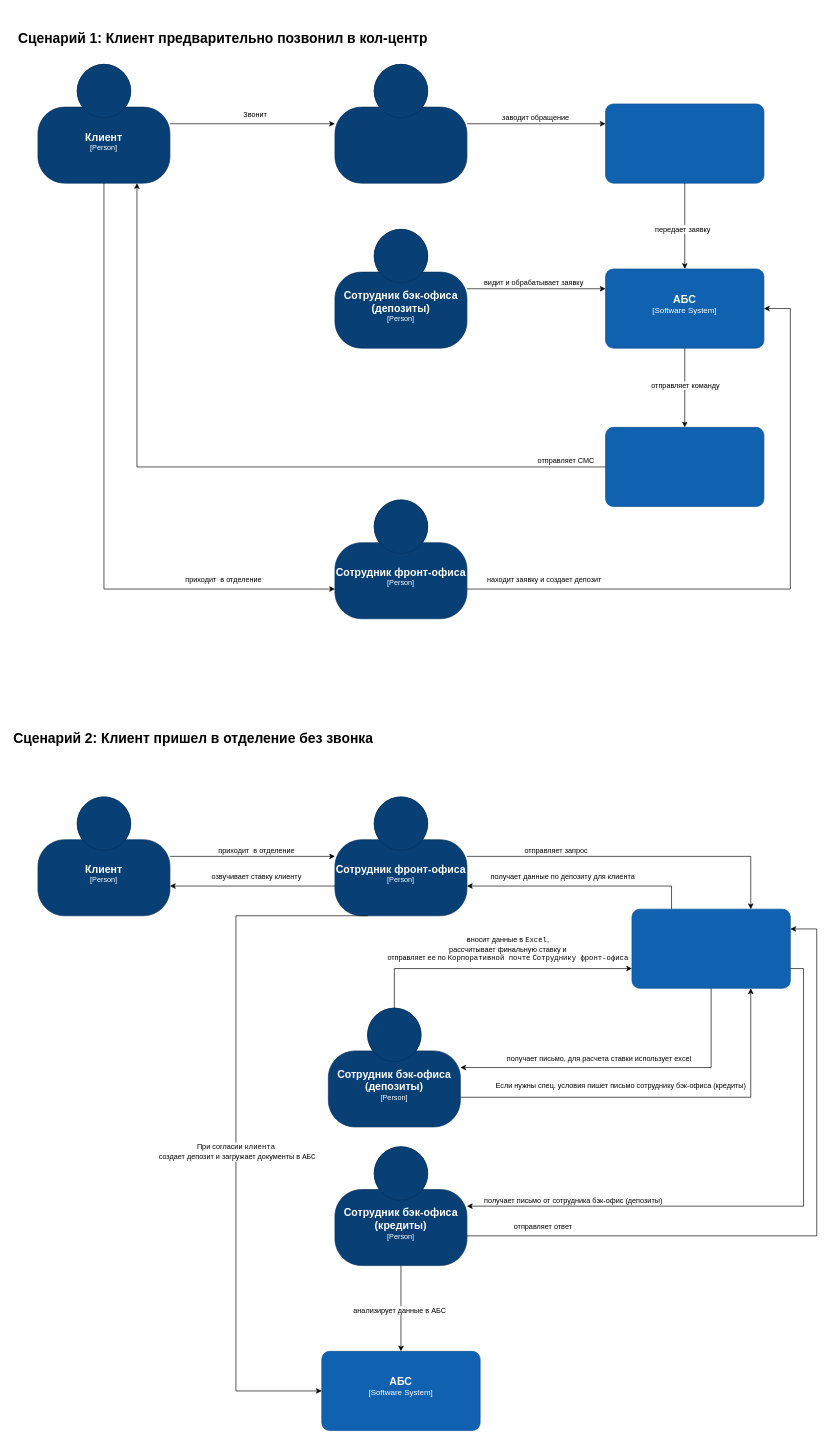
The diagram is 834 pixels wide and 1442 high, and some of its shapes have lost their labels. The shapes that lost their labels are listed below. From the top down, each one's centre as x and y in pixels, then its label:
At pixel 400 123: "Сотрудник кол-центра [Person]".
At pixel 684 143: "Система кол-центра [Software System]".
At pixel 684 467: "СМС-шлюз [Software System]".
At pixel 710 948: "Корпоративная почта / Excel [Software System]".
